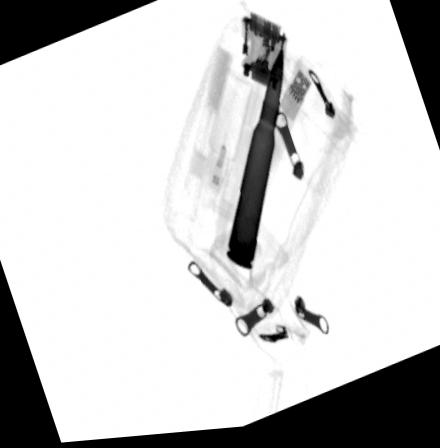Bullet: (225, 46, 286, 274)
